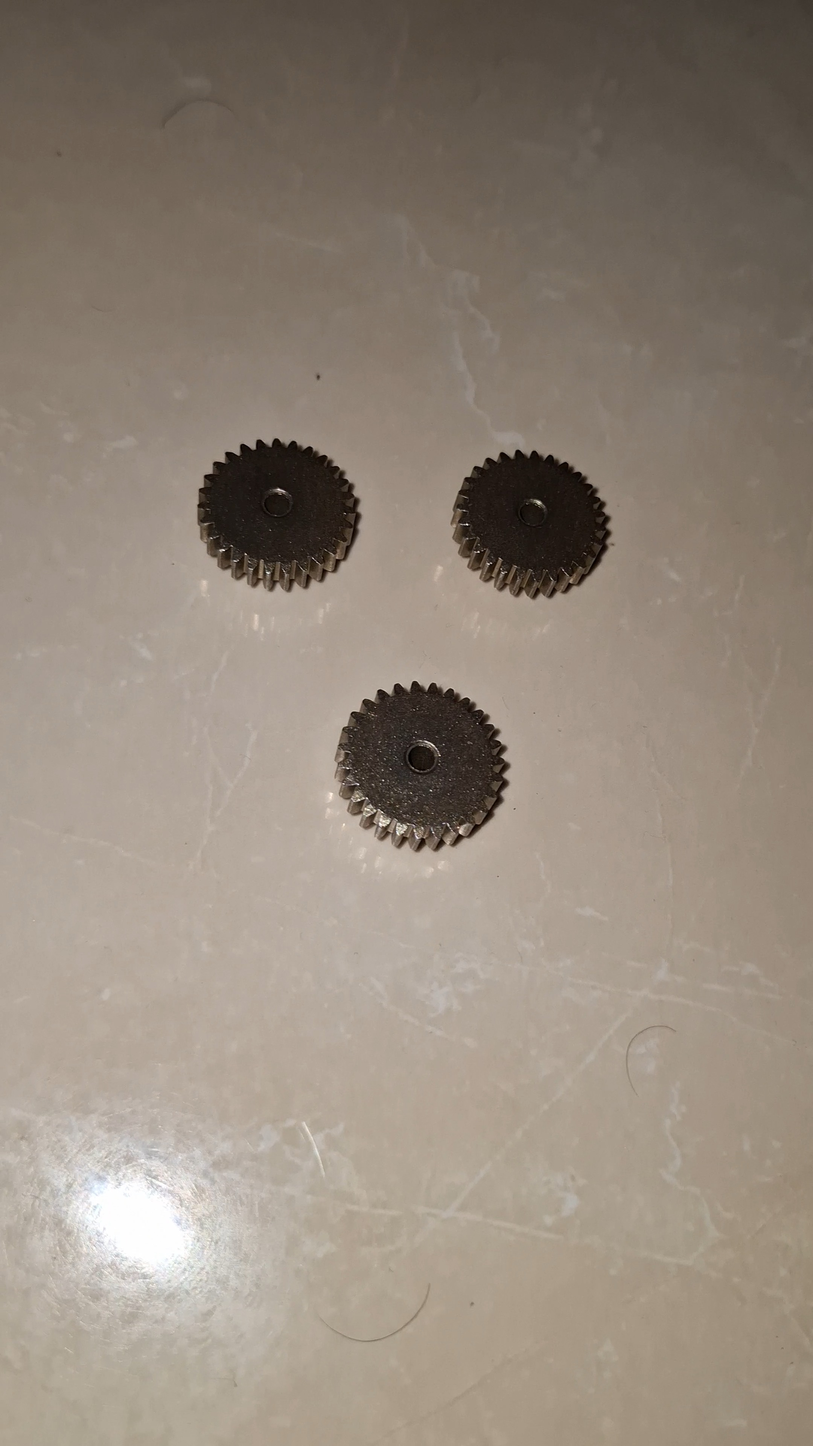spur gear: (336, 682, 503, 848), (198, 439, 355, 590), (452, 451, 607, 596)
